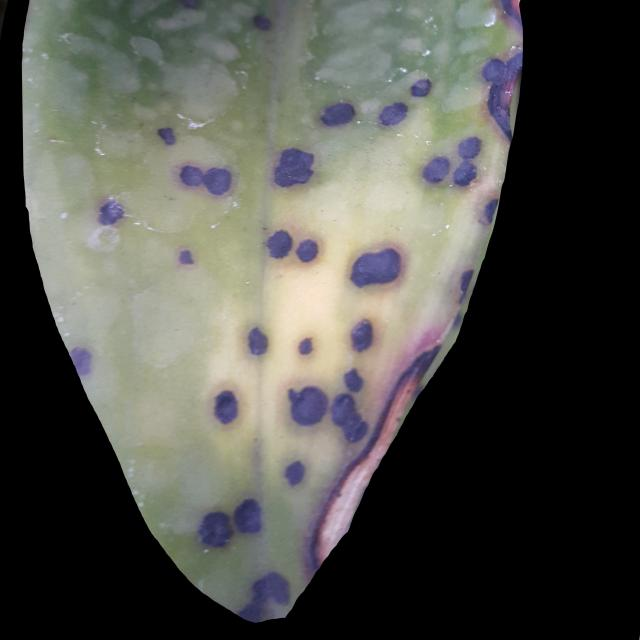mite: (89, 73, 486, 447), (418, 134, 484, 189), (177, 161, 233, 197), (330, 391, 368, 443), (272, 146, 316, 188), (286, 384, 328, 427), (196, 509, 234, 548), (233, 496, 263, 535), (319, 100, 356, 128), (420, 154, 451, 185), (202, 165, 233, 196), (349, 317, 375, 353), (265, 228, 293, 260), (377, 100, 409, 127), (97, 197, 125, 227), (246, 325, 270, 357), (452, 160, 478, 187), (456, 134, 483, 160), (295, 236, 320, 264), (178, 162, 203, 188), (409, 76, 433, 98), (156, 124, 177, 147)
